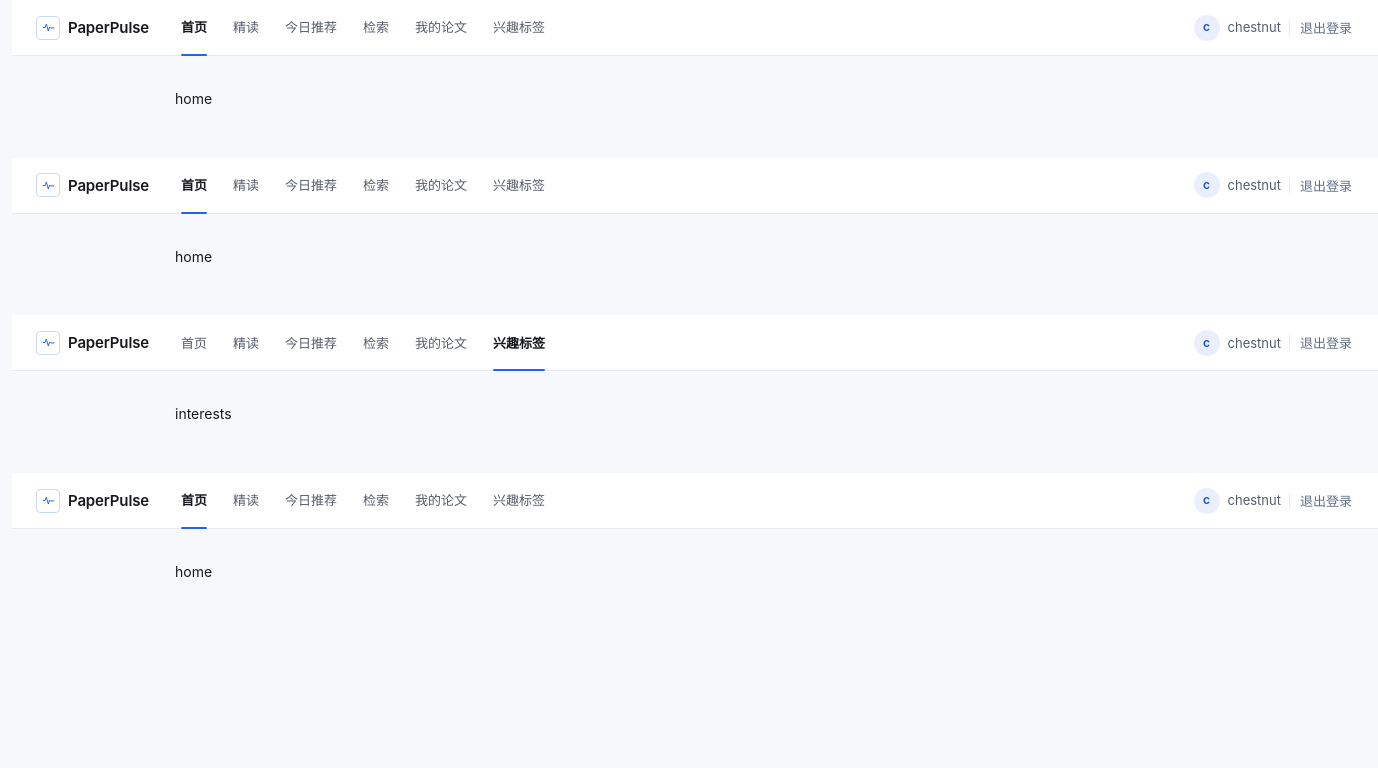
Test case: AppLayout › 退出登录清空登录态并回到登录页
Click the 4th button with class "linkbtn" at (1326, 501), box x1=1298 y1=487 x2=1354 y2=514
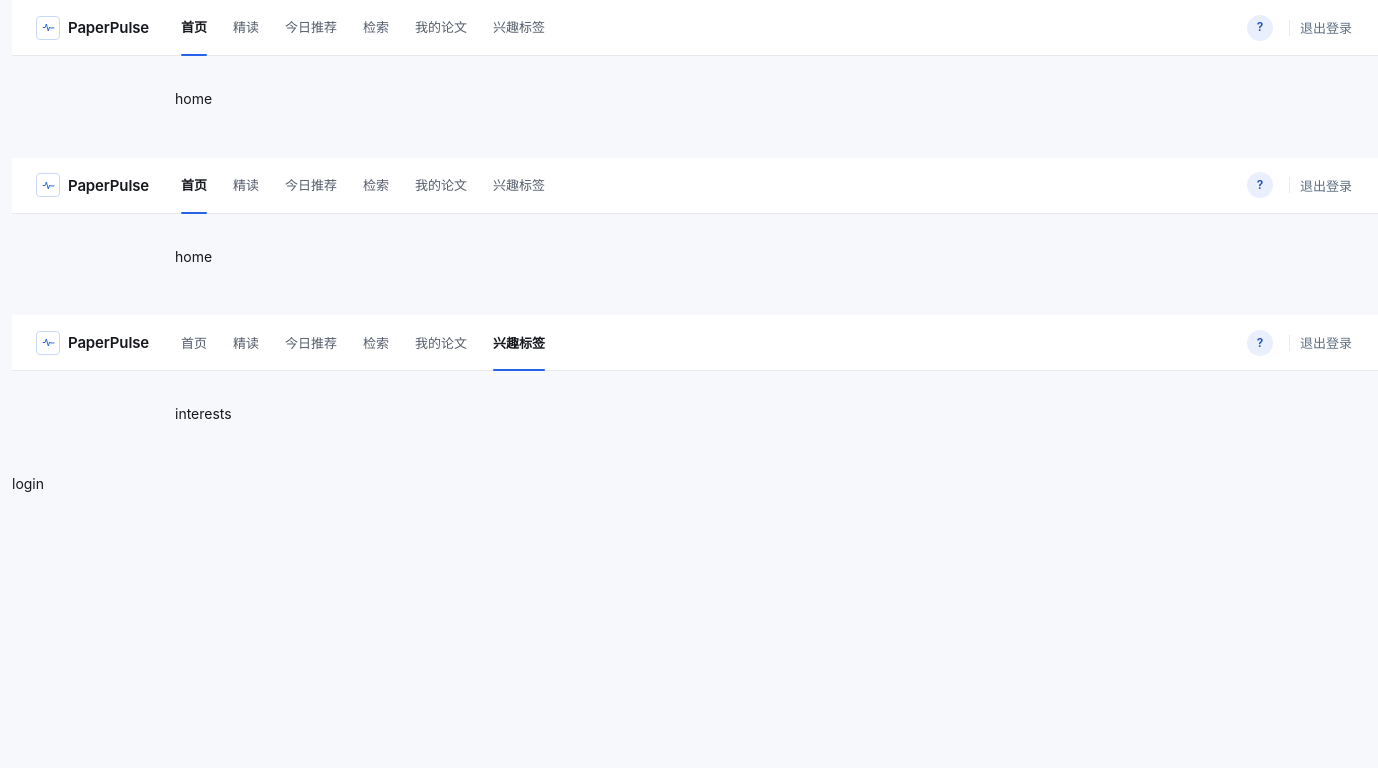
Now the text "login" is shown, box x1=12 y1=475 x2=44 y2=492
